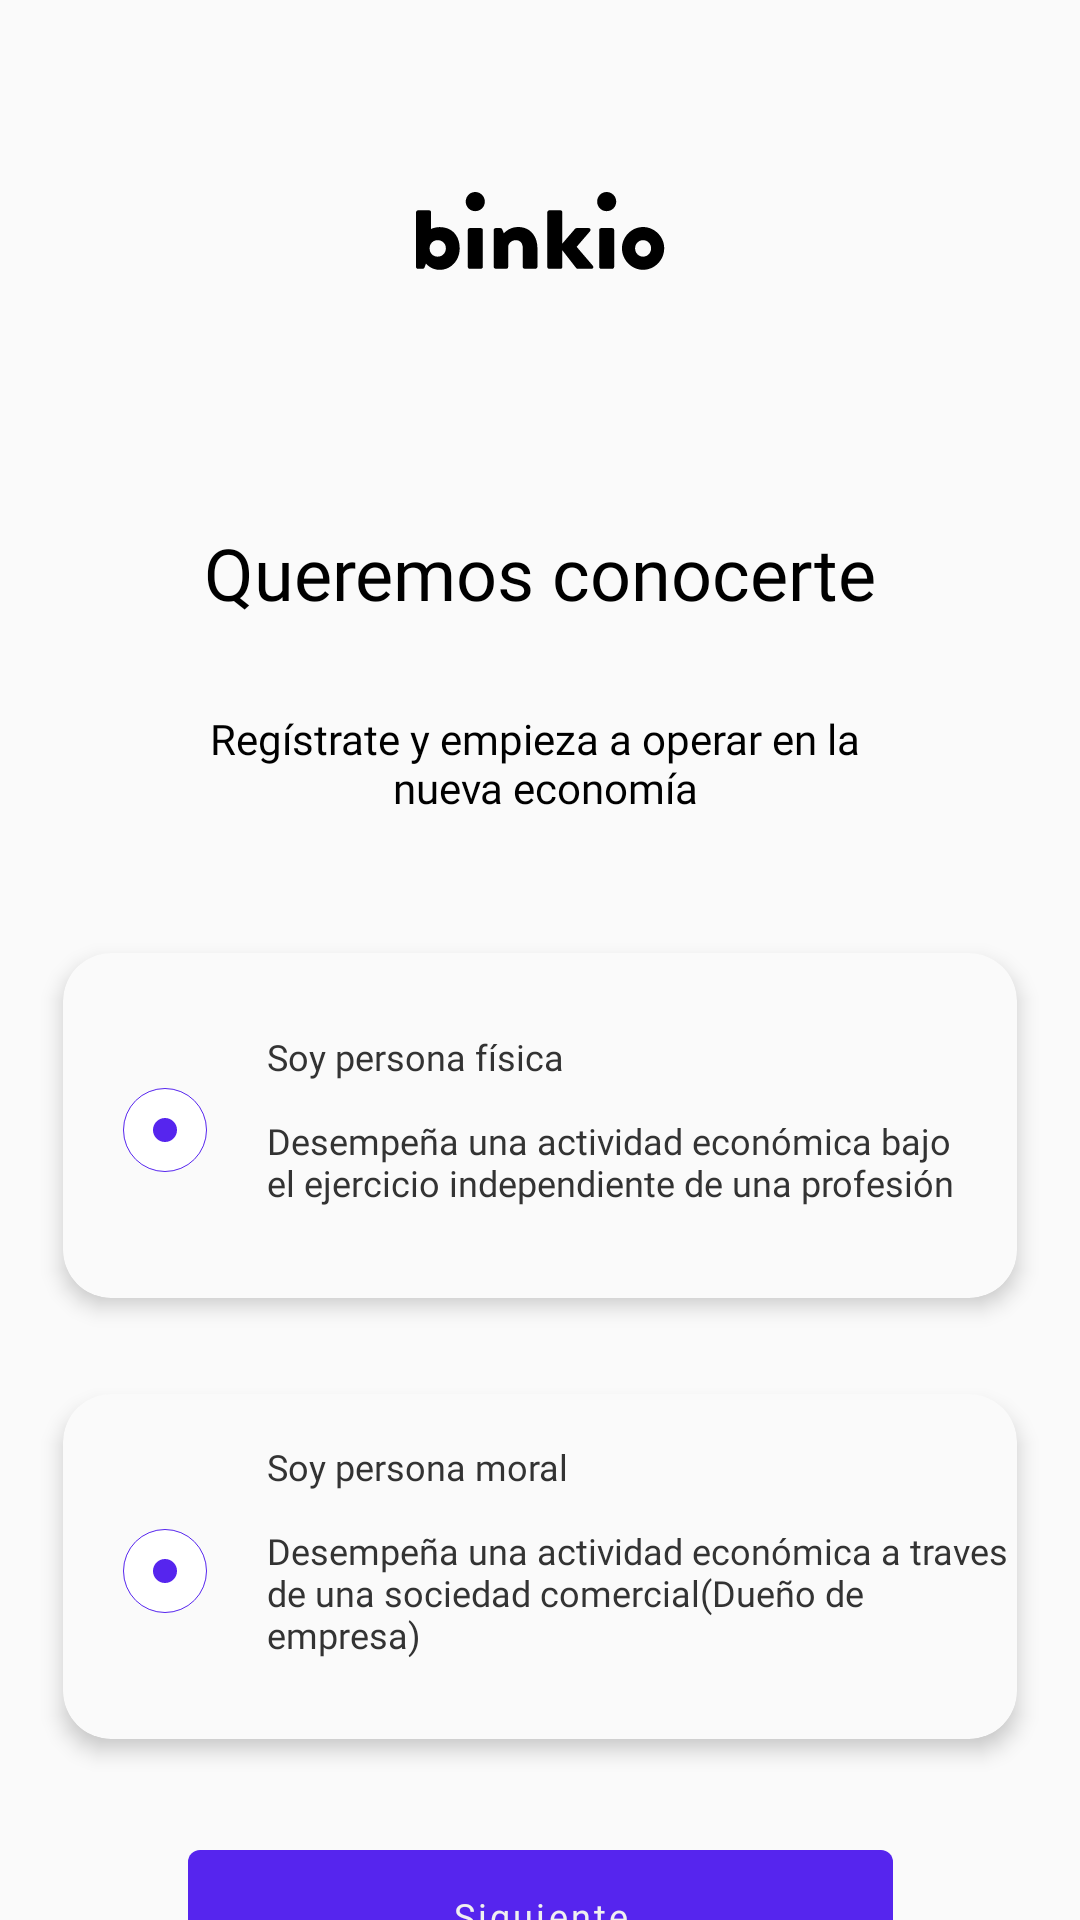

Icons on this 1080×1920 Android screen, each with its box as (x1, y1, x2, y2):
checkbox circle: (123, 1088, 207, 1172), (123, 1529, 207, 1613)
